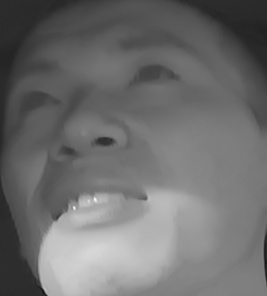eye: (128, 60, 185, 92), (11, 87, 64, 118)
mouth: (38, 169, 157, 232)
